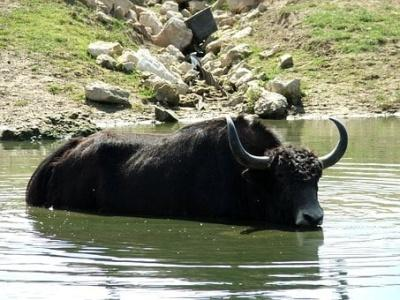buffalo: (25, 114, 347, 232)
